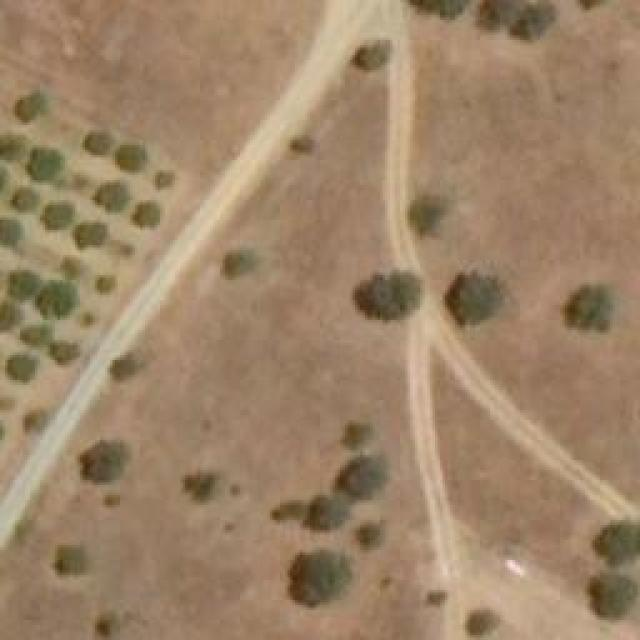Tree: (353, 268, 423, 321), (445, 265, 500, 328), (290, 550, 345, 608), (565, 283, 613, 333), (593, 570, 636, 620), (332, 460, 380, 503), (77, 438, 125, 481), (592, 520, 640, 563), (510, 0, 558, 40), (300, 495, 348, 530), (408, 190, 448, 230), (90, 180, 133, 213), (27, 145, 65, 180), (473, 0, 516, 30), (335, 423, 370, 458), (410, 0, 469, 20), (128, 200, 163, 233), (50, 545, 85, 578), (350, 45, 388, 75), (108, 353, 141, 386), (45, 340, 83, 368), (223, 250, 258, 280), (463, 608, 498, 638), (5, 353, 38, 383), (13, 93, 46, 123), (10, 273, 43, 303), (113, 147, 148, 175), (185, 470, 215, 500), (353, 520, 383, 550), (80, 130, 115, 155), (287, 129, 318, 157), (10, 187, 40, 215), (75, 220, 105, 248), (43, 202, 73, 230), (43, 285, 68, 315), (95, 610, 120, 638), (60, 255, 85, 280), (0, 218, 20, 248), (0, 300, 18, 333), (150, 168, 175, 191), (98, 273, 123, 296), (25, 323, 50, 346), (0, 135, 22, 160), (20, 410, 43, 433), (270, 500, 293, 523), (100, 490, 123, 510), (425, 590, 448, 608), (83, 310, 98, 328), (120, 243, 135, 258)
